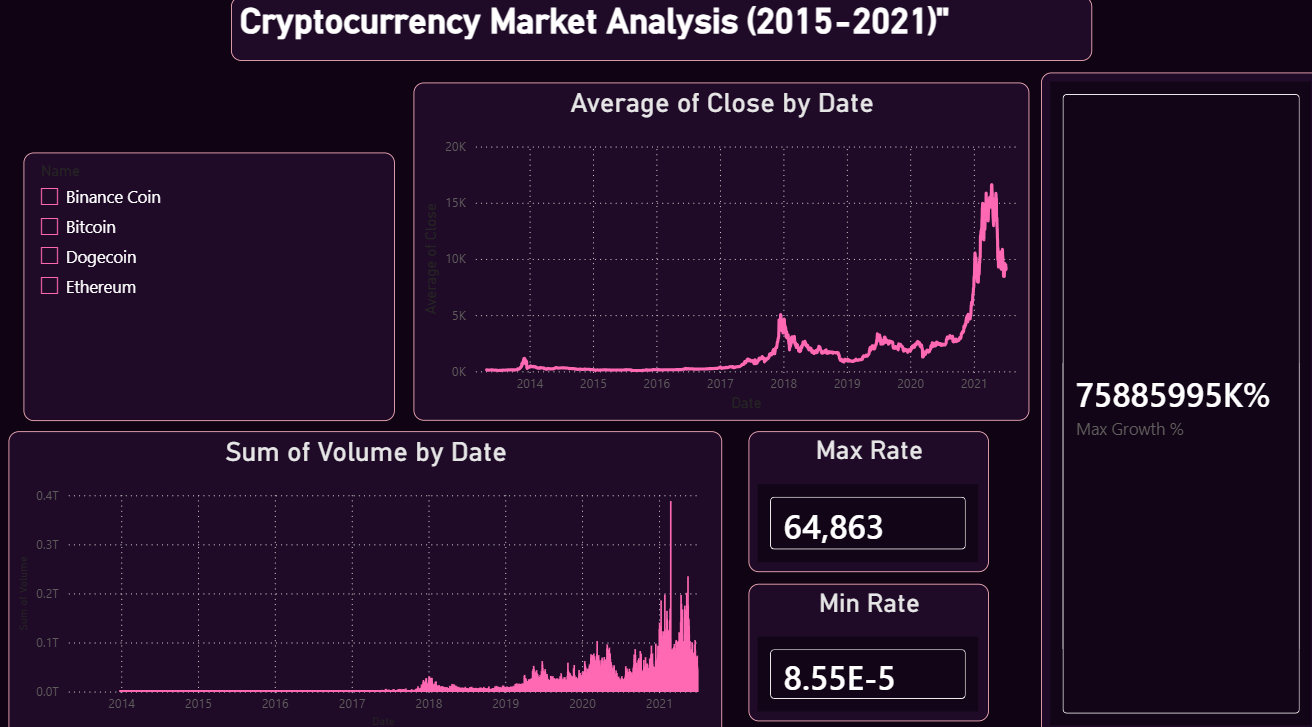

The dashboard page shown, as its layout file describes it:
{"tool":"powerbi","page":{"name":"Page 1","canvas":[1280,720],"ordinal":0},"visuals":[{"type":"slicer","fields":{"Values":["crypto analysis.Name"]},"box":[26.5,156.8,358.1,259.3],"z":0},{"type":"lineChart","fields":{"Category":["crypto analysis.Date"],"Y":["Avg(crypto analysis.Close)"]},"box":[403,89.3,594.2,326.6],"z":1000},{"type":"cardVisual","title":"Max Rate","fields":{"Data":["Max(crypto analysis.High)"]},"box":[725.9,425.4,231.9,135.8],"z":2000},{"type":"cardVisual","title":"Min Rate","fields":{"Data":["Min(crypto analysis.Low)"]},"box":[725.9,573.6,231.9,133.1],"z":3000},{"type":"columnChart","fields":{"Y":["Sum(crypto analysis.Volume)"],"Category":["crypto analysis.Date"]},"box":[12.3,425.4,688.9,295],"z":4000},{"type":"cardVisual","fields":{"Data":["crypto analysis.Max Growth %"]},"box":[1008.6,79.6,271.4,640.6],"z":5000},{"type":"textbox","title":"Cryptocurrency Market Analysis (2015-2021)\"","box":[226.8,6,831.2,62.7],"z":6000}]}

Visuals, with their boxes in screenshot pixels (x1, y1, x2, y2), scaled from the page's 1280x720 canvas onto the 1312x727 screenshot:
slicer - crypto analysis.Name: 27 158 394 420
lineChart - crypto analysis.Date x Avg(crypto analysis.Close): 413 90 1022 420
"Max Rate" cardVisual: 744 430 982 567
"Min Rate" cardVisual: 744 579 982 714
columnChart - Sum(crypto analysis.Volume) x crypto analysis.Date: 13 430 719 726
cardVisual - crypto analysis.Max Growth %: 1034 80 1311 726
"Cryptocurrency Market Analysis (2015-2021)"" textbox: 232 6 1084 69
